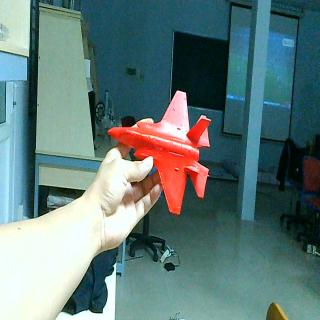Jet: (106, 89, 211, 217)
